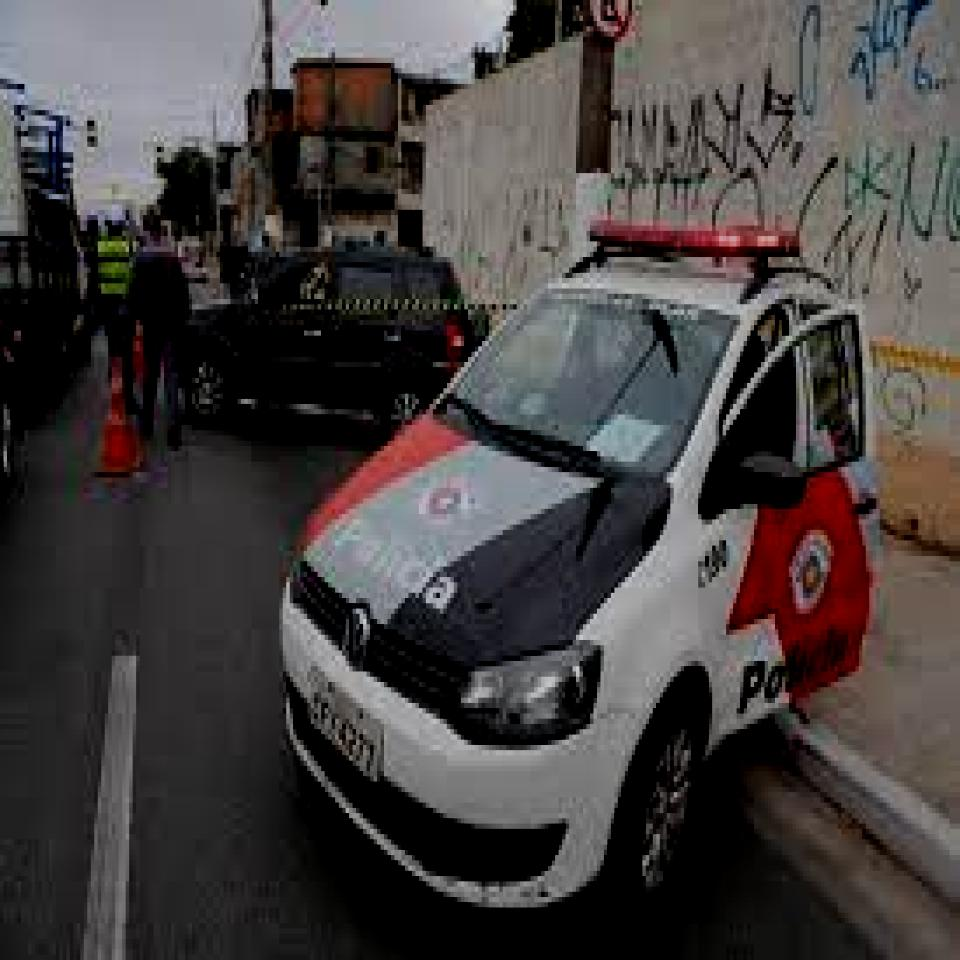viatura: (274, 208, 879, 936)
